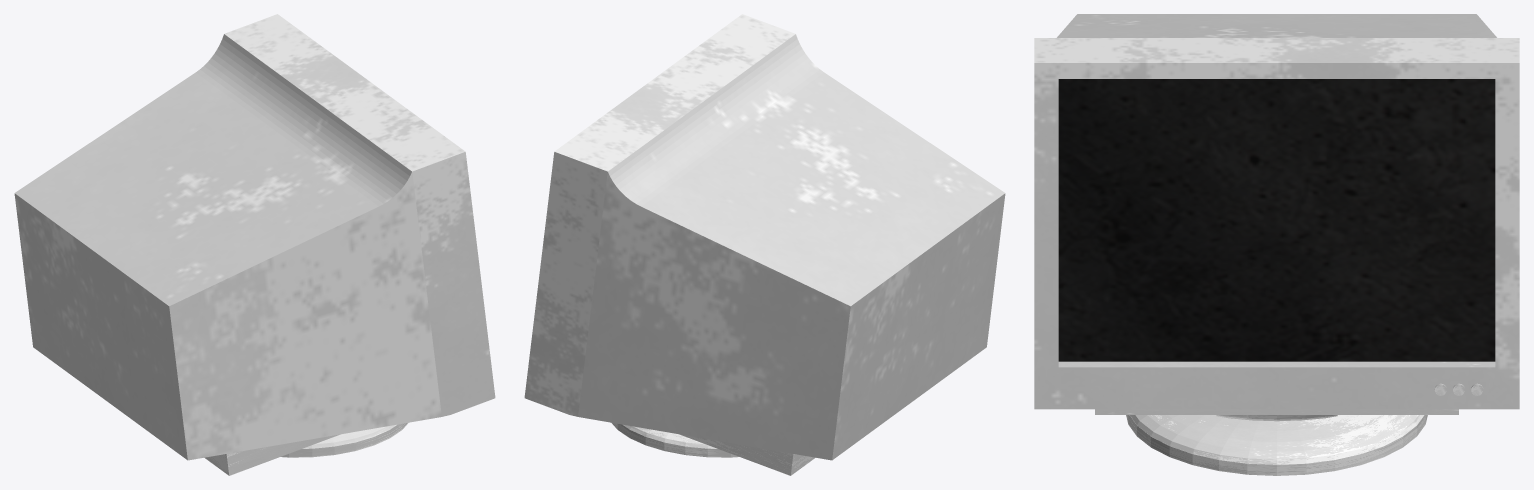
The model's file is monitor_tilted_tri.fbx.
3 renders of one model, left to right at view 1: azimuth 30°, elevation 25°; view 2: azimuth 150°, elevation 25°; view 3: azimuth 270°, elevation 25°, orthographic. The views are drawn at different scales.
Visible parts, largest first — view 1: screen, Base; view 2: screen, Base; view 3: screen, Base.
Boxes of the visible parts, x1=… form: screen: x1=14, y1=14, x2=495, y2=475; Base: x1=281, y1=422, x2=408, y2=457; screen: x1=524, y1=14, x2=1005, y2=475; Base: x1=611, y1=422, x2=738, y2=457; screen: x1=1034, y1=14, x2=1519, y2=421; Base: x1=1126, y1=415, x2=1427, y2=475.
Size of the model in its own units: 38.02 by 36.01 by 40.
Materials: 2 (2 with a texture image).
